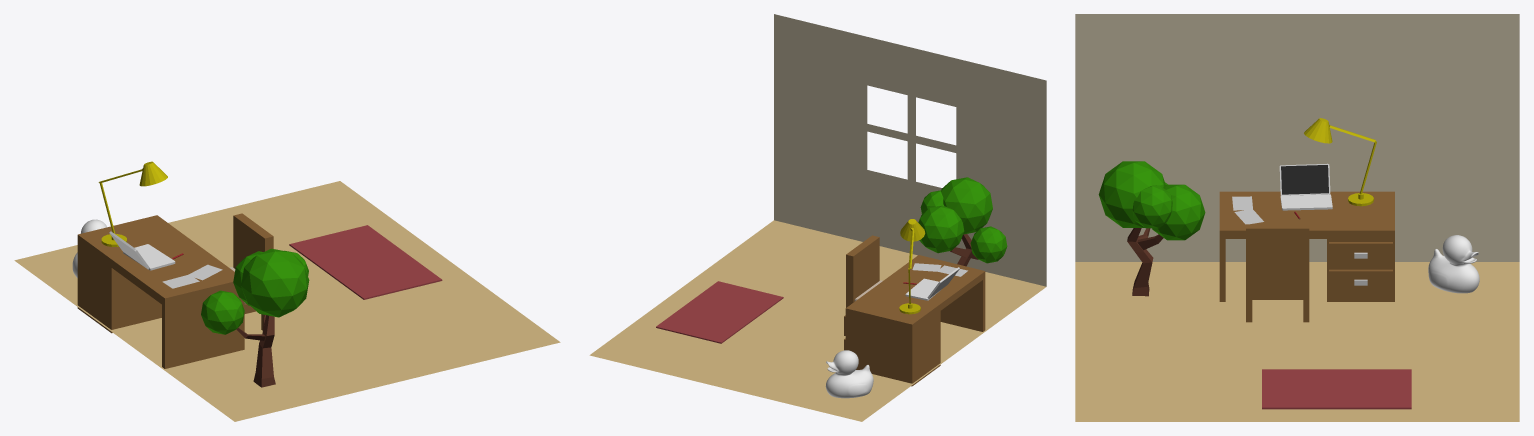
The model's file is roomScene.gltf.
3 views of the same model, side by side, from view 1: azimuth 30°, elevation 25°; view 2: azimuth 150°, elevation 25°; view 3: azimuth 270°, elevation 25° (orthographic). The views are drawn at different scales.
Visible parts, largest first — view 1: Plane, Cube.004, Cube.001, Icosphere.003, Cube.006, Cube, Laptop_Cube.010, Cylinder.001; view 2: Plane, Cube.004, Icosphere.003, Cube.001, Cube.006, rubber_duck_toy.001, Cylinder.001, Laptop_Cube.010; view 3: Plane, Cube.004, Cube.001, Icosphere.003, Cube.006, Laptop_Cube.010, rubber_duck_toy.001, Cube, Cylinder.001.
Boxes of the visible parts, <box> form: Plane: <box>14,181,560,421</box>; Cube.004: <box>77,215,244,368</box>; Cube.001: <box>289,225,442,299</box>; Icosphere.003: <box>201,248,309,334</box>; Cube.006: <box>229,213,273,330</box>; Cube: <box>236,315,275,387</box>; Laptop_Cube.010: <box>109,231,175,270</box>; Cylinder.001: <box>98,161,167,246</box>; Plane: <box>589,14,1046,421</box>; Cube.004: <box>844,255,985,386</box>; Icosphere.003: <box>918,177,1007,263</box>; Cube.001: <box>656,281,783,343</box>; Cube.006: <box>846,235,882,307</box>; rubber_duck_toy.001: <box>825,350,873,398</box>; Cylinder.001: <box>899,219,925,314</box>; Laptop_Cube.010: <box>905,267,959,300</box>; Plane: <box>1075,14,1519,421</box>; Cube.004: <box>1219,191,1394,301</box>; Cube.001: <box>1262,369,1411,409</box>; Icosphere.003: <box>1098,161,1205,240</box>; Cube.006: <box>1246,224,1309,322</box>; Laptop_Cube.010: <box>1279,163,1332,210</box>; rubber_duck_toy.001: <box>1428,235,1479,293</box>; Cube: <box>1127,228,1163,296</box>; Cylinder.001: <box>1304,118,1376,206</box>.
Bounding box in the file's own units: 2.56 × 1.92 × 3.
